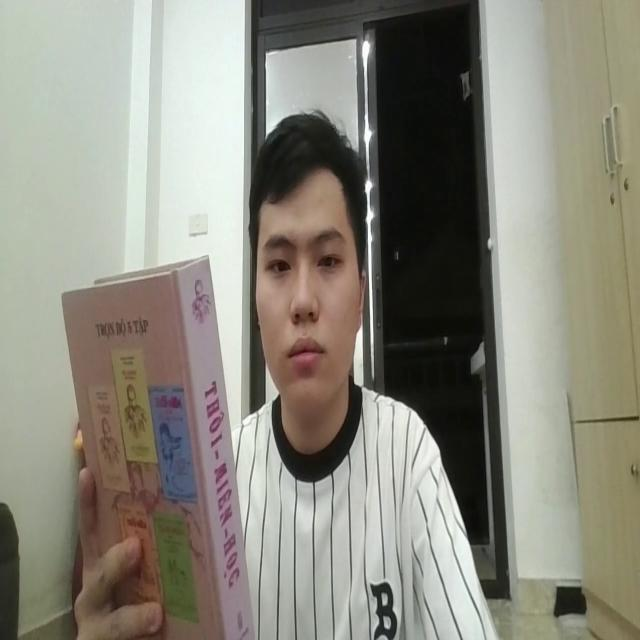book: (61, 258, 257, 640)
student: (235, 106, 490, 640)
